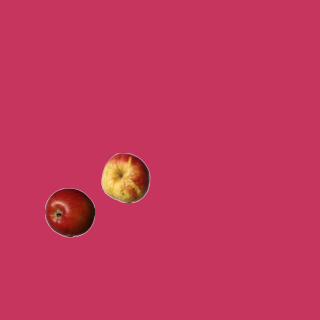Apple Braeburn: (44, 187, 94, 237)
Apple Red Yellow 1: (100, 152, 150, 202)
